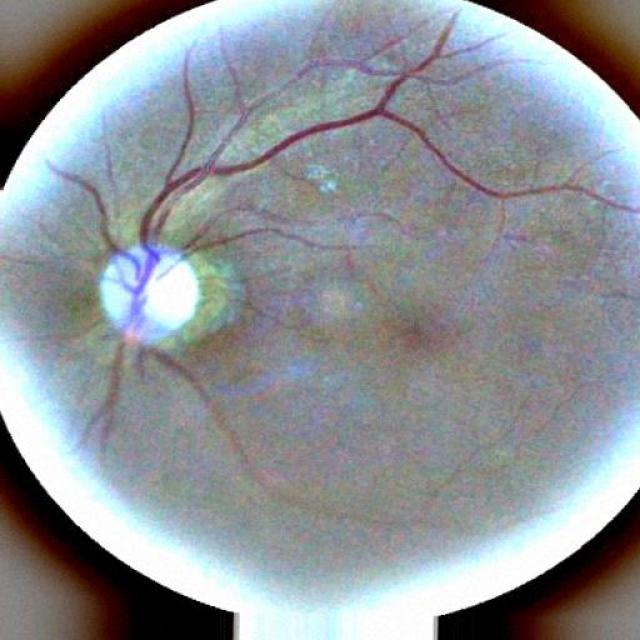Macula: (377, 310, 441, 359)
Nerves: (48, 16, 639, 466), (180, 228, 349, 256), (104, 258, 139, 290)
Optic Disk: (99, 242, 202, 344)
